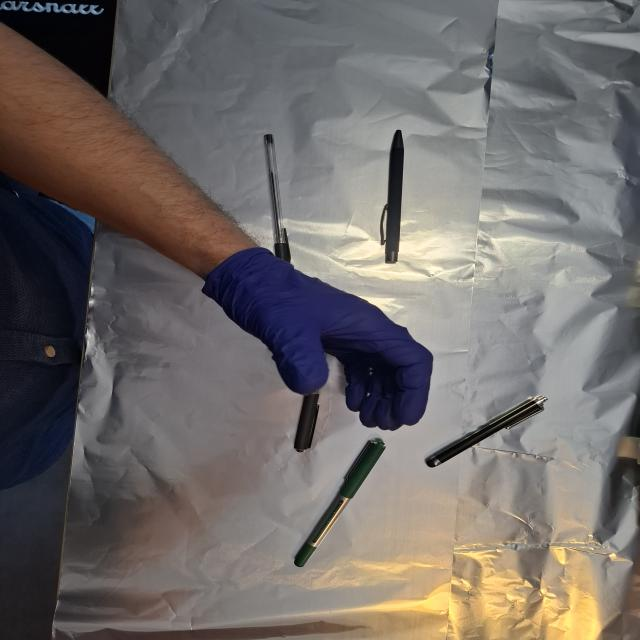glove_on: (203, 248, 439, 434)
